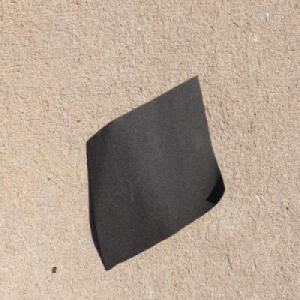PaintChip: (85, 73, 225, 273)
